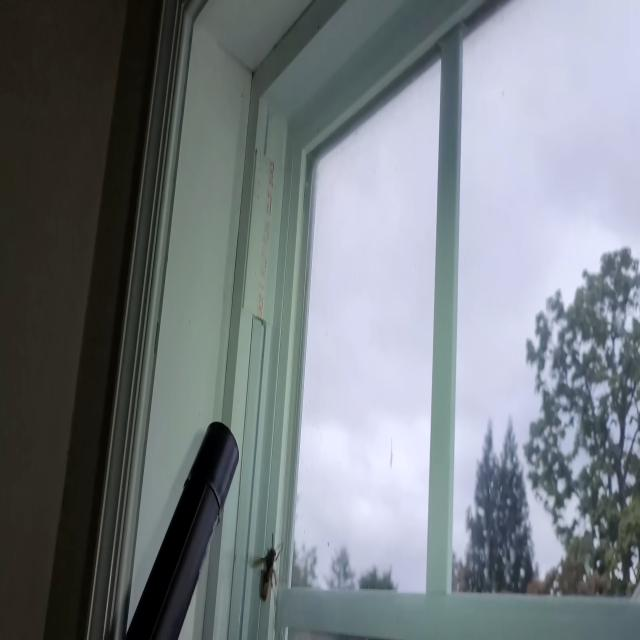Hornets: (250, 530, 282, 606)
